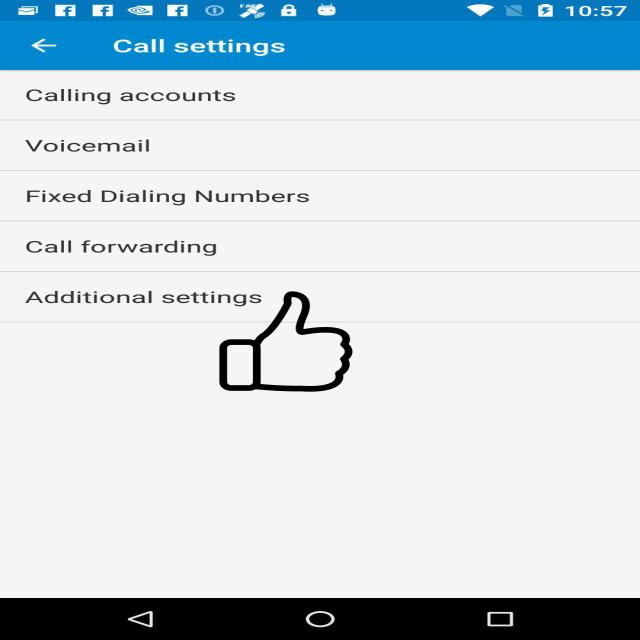privacy zuckering: (218, 291, 354, 392)
